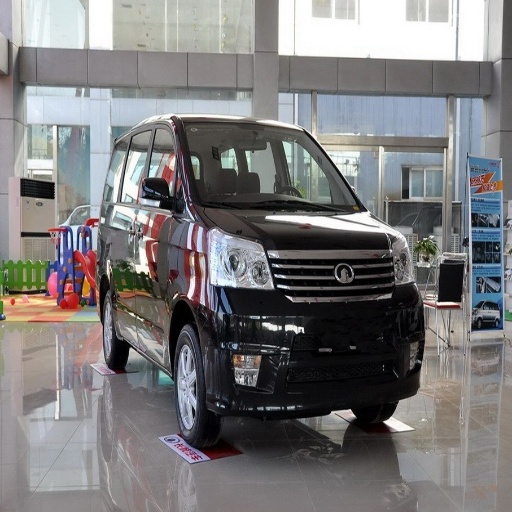front_bumper: (199, 250, 424, 417)
front_right_door: (133, 122, 184, 341)
front_right_light: (200, 229, 271, 289)
